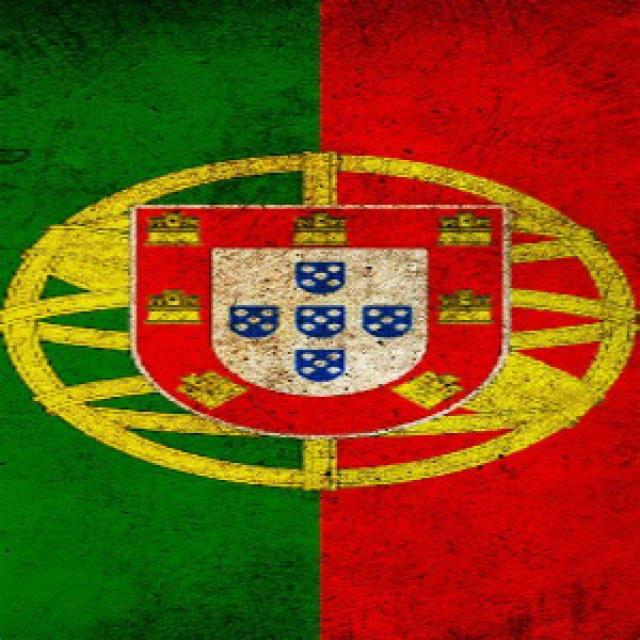portugal: (4, 11, 640, 640)
